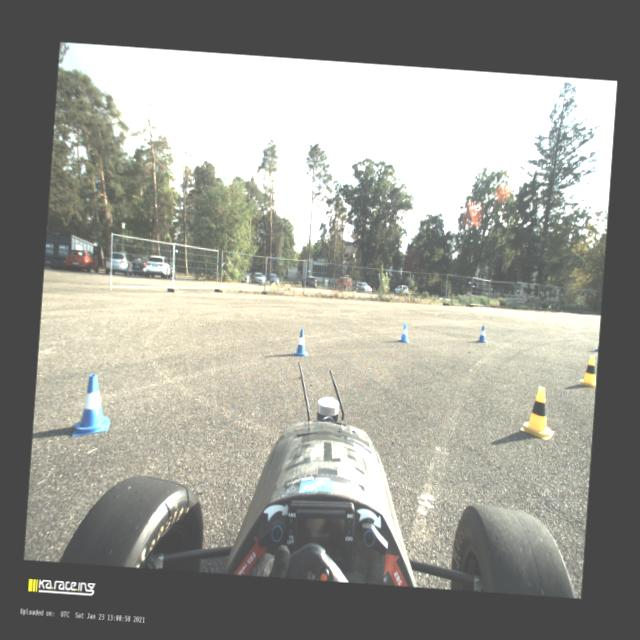blue_cone: (72, 372, 113, 439), (292, 328, 310, 357), (476, 324, 488, 343), (398, 322, 409, 342), (594, 344, 599, 352)
yellow_cone: (519, 385, 557, 440), (578, 354, 598, 388)
